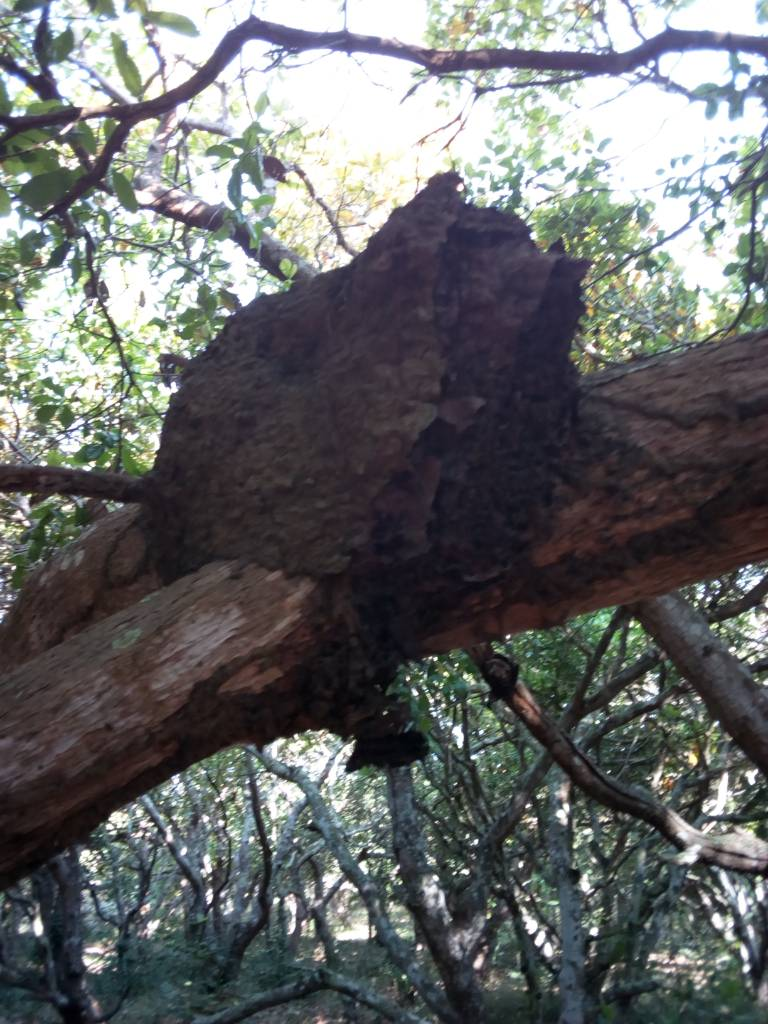Termites: (146, 171, 583, 564)
